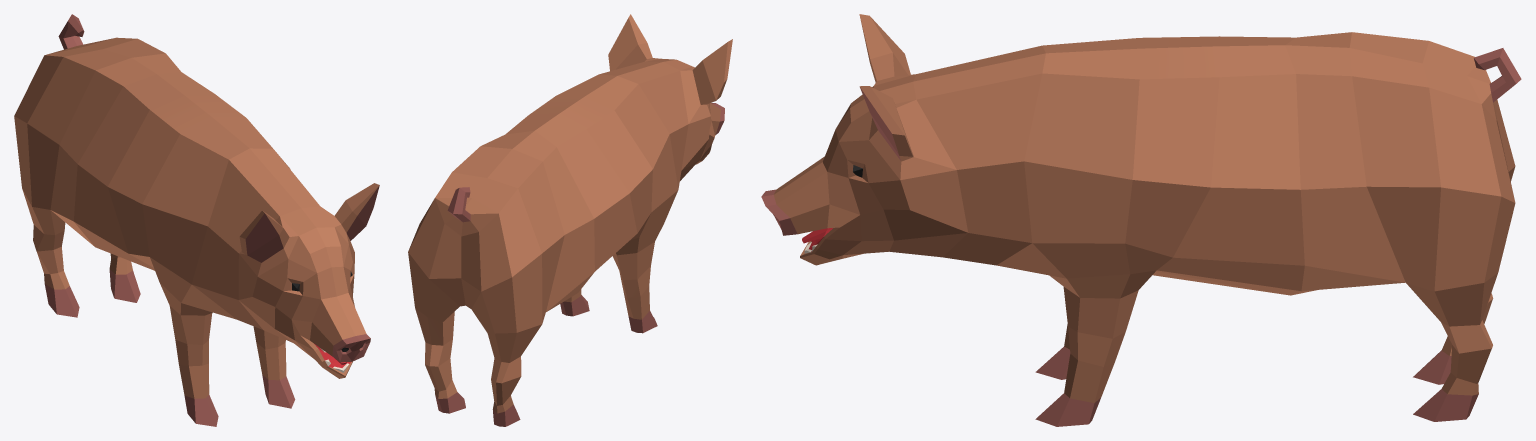
The model's file is animals_pig.fbx.
3 views of the same model, side by side, from view 1: azimuth 30°, elevation 25°; view 2: azimuth 150°, elevation 25°; view 3: azimuth 270°, elevation 25° (orthographic). The views are drawn at different scales.
Visible parts, largest first — view 1: animals_pig; view 2: animals_pig; view 3: animals_pig.
Boxes of the visible parts, x1,y1,x2,y2 form: animals_pig: [14, 14, 379, 426]; animals_pig: [408, 14, 732, 426]; animals_pig: [761, 14, 1521, 426].
Bounding box in the file's own units: 60.91 × 102 × 200.
